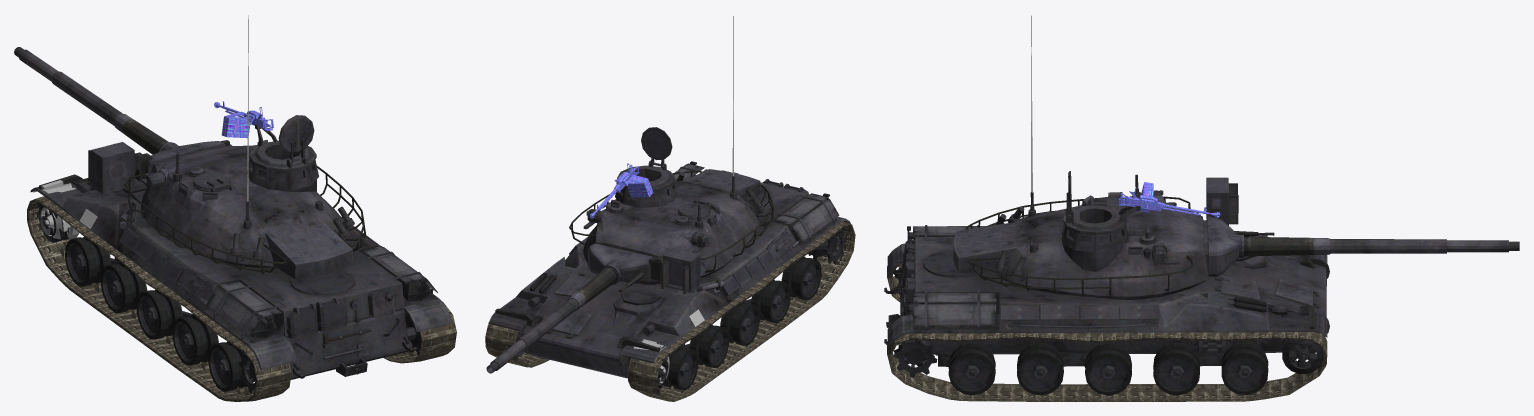
Rendered from ARE AMX-30 MBT 'Jaguar Tank'.obj.
The picture shows the model from 3 angles, left to right: view 1: azimuth 30°, elevation 25°; view 2: azimuth 150°, elevation 25°; view 3: azimuth 270°, elevation 25°; orthographic projection. The views are drawn at different scales.
Parts seen in each view (by area): view 1: DrawCall_1331, DrawCall_1334, DrawCall_0259, DrawCall_1332, DrawCall_1348, DrawCall_1347, DrawCall_1350, DrawCall_1349, DrawCall_1333, DrawCall_1346, DrawCall_0258, DrawCall_1340 (+4 smaller); view 2: DrawCall_1331, DrawCall_1334, DrawCall_0259, DrawCall_1332, DrawCall_1346, DrawCall_1348, DrawCall_1349, DrawCall_1347, DrawCall_0258, DrawCall_1350, DrawCall_0296, DrawCall_1340 (+3 smaller); view 3: DrawCall_1331, DrawCall_1334, DrawCall_0258, DrawCall_1332, DrawCall_1341, DrawCall_1345, DrawCall_1342, DrawCall_1343, DrawCall_1344, DrawCall_1333, DrawCall_1338, DrawCall_1336 (+1 smaller).
Boxes of the visible parts, x1,y1,x2,y2 form: DrawCall_1331: [30, 140, 452, 379]; DrawCall_1334: [124, 140, 366, 279]; DrawCall_0259: [27, 196, 291, 401]; DrawCall_1332: [14, 47, 225, 194]; DrawCall_1348: [136, 289, 182, 339]; DrawCall_1347: [172, 314, 218, 365]; DrawCall_1350: [65, 236, 111, 286]; DrawCall_1349: [101, 262, 147, 312]; DrawCall_1333: [249, 124, 316, 171]; DrawCall_1346: [208, 341, 251, 391]; DrawCall_0258: [383, 301, 456, 363]; DrawCall_1340: [278, 115, 314, 163]; DrawCall_1331: [488, 161, 850, 378]; DrawCall_1334: [569, 169, 774, 283]; DrawCall_0259: [628, 221, 855, 401]; DrawCall_1332: [486, 243, 700, 373]; DrawCall_1346: [781, 256, 821, 300]; DrawCall_1348: [720, 302, 759, 345]; DrawCall_1349: [689, 324, 728, 367]; DrawCall_1347: [751, 280, 790, 322]; DrawCall_0258: [485, 324, 549, 367]; DrawCall_1350: [663, 346, 698, 390]; DrawCall_0296: [589, 163, 653, 218]; DrawCall_1340: [641, 127, 672, 167]; DrawCall_1331: [884, 225, 1329, 366]; DrawCall_1334: [953, 174, 1208, 299]; DrawCall_0258: [887, 332, 1327, 401]; DrawCall_1332: [1203, 177, 1519, 276]; DrawCall_1341: [948, 342, 995, 395]; DrawCall_1345: [1221, 342, 1268, 394]; DrawCall_1342: [1017, 343, 1063, 395]; DrawCall_1343: [1085, 343, 1131, 395]; DrawCall_1344: [1153, 343, 1199, 395]; DrawCall_1333: [1063, 205, 1140, 234]; DrawCall_1338: [1282, 339, 1323, 373]; DrawCall_1336: [893, 340, 937, 377].
Bounding box in the file's own units: 3.34 × 5.47 × 9.64.
